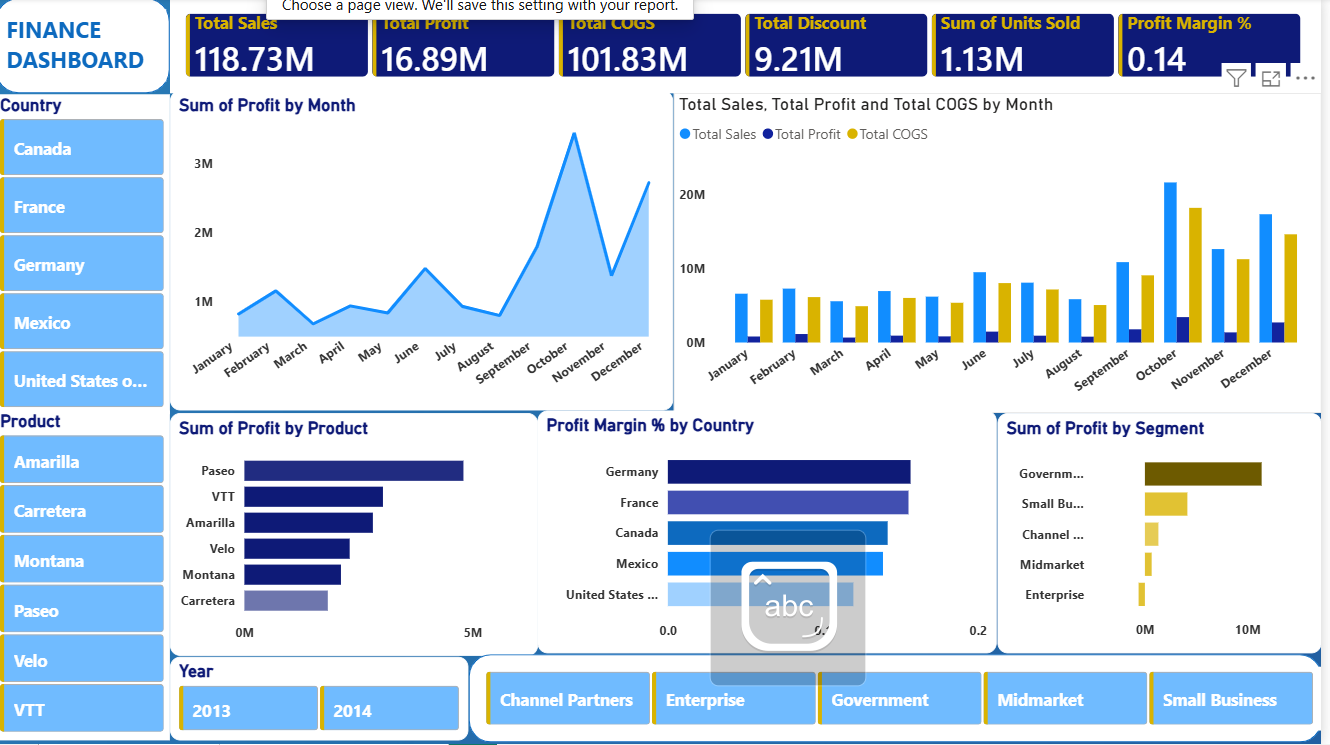

What the dashboard file says about the page in this screenshot:
{"tool":"powerbi","page":{"name":"Finance Dashboard","canvas":[1280,720],"ordinal":0},"visuals":[{"type":"cardVisual","fields":{"Data":["financials.Total Sales","financials.Total Profit","financials.Total COGS","financials.Total Discount","Sum(financials.Units Sold)","financials.Profit Margin %"]},"box":[168.8,0,1111.5,91.9],"z":0},{"type":"shape","box":[0,0,168.8,91.9],"z":1000},{"type":"clusteredColumnChart","fields":{"Category":["financials.Date.Variation.Date Hierarchy.Month"],"Y":["financials.Total Sales","financials.Total Profit","financials.Total COGS"]},"box":[654.5,91.9,625.7,308.7],"z":2000},{"type":"lineChart","fields":{"Category":["financials.Date.Variation.Date Hierarchy.Month"],"Y":["Sum(financials.Profit)"]},"box":[168.8,89.2,485.8,308.7],"z":3000},{"type":"barChart","fields":{"Category":["financials.Product"],"Y":["Sum(financials.Profit)"]},"box":[168.8,400.7,355.4,234.6],"z":4000},{"type":"barChart","fields":{"Category":["financials.Country"],"Y":["financials.Profit Margin %"]},"box":[524.2,397.9,443.2,234.6],"z":5000},{"type":"barChart","fields":{"Y":["Sum(financials.Profit)"],"Category":["financials.Segment"]},"box":[967.4,400.7,312.9,231.9],"z":6000},{"type":"advancedSlicerVisual","fields":{"Values":["financials.Country"]},"box":[0,93.3,168.8,308.7],"z":7000},{"type":"advancedSlicerVisual","fields":{"Values":["financials.Date.Variation.Date Hierarchy.Year"]},"box":[168.8,635.3,288.2,81],"z":8000},{"type":"advancedSlicerVisual","fields":{"Values":["financials.Product"]},"box":[0,397.9,168.8,318.4],"z":9000},{"type":"shape","box":[456.9,634,823.3,85.1],"z":10000},{"type":"textbox","box":[5.5,11,159.2,70],"z":11000},{"type":"advancedSlicerVisual","fields":{"Values":["financials.Segment"]},"box":[469.3,644.9,811,61.7],"z":12000}]}

Visuals, with their boxes on the page's 1280x720 design canvas (x1, y1, x2, y2). These are canvas units, not pixel positions in the 1330x745 screenshot, which may show the page scaled, cropped or inside an application window:
cardVisual - financials.Total Sales x financials.Total Profit: Rect(169, 0, 1280, 92)
shape: Rect(0, 0, 169, 92)
clusteredColumnChart - financials.Date.Variation.Date Hierarchy.Month x financials.Total Sales: Rect(654, 92, 1280, 401)
lineChart - financials.Date.Variation.Date Hierarchy.Month x Sum(financials.Profit): Rect(169, 89, 655, 398)
barChart - financials.Product x Sum(financials.Profit): Rect(169, 401, 524, 635)
barChart - financials.Country x financials.Profit Margin %: Rect(524, 398, 967, 632)
barChart - Sum(financials.Profit) x financials.Segment: Rect(967, 401, 1280, 633)
advancedSlicerVisual - financials.Country: Rect(0, 93, 169, 402)
advancedSlicerVisual - financials.Date.Variation.Date Hierarchy.Year: Rect(169, 635, 457, 716)
advancedSlicerVisual - financials.Product: Rect(0, 398, 169, 716)
shape: Rect(457, 634, 1280, 719)
textbox: Rect(6, 11, 165, 81)
advancedSlicerVisual - financials.Segment: Rect(469, 645, 1280, 707)
